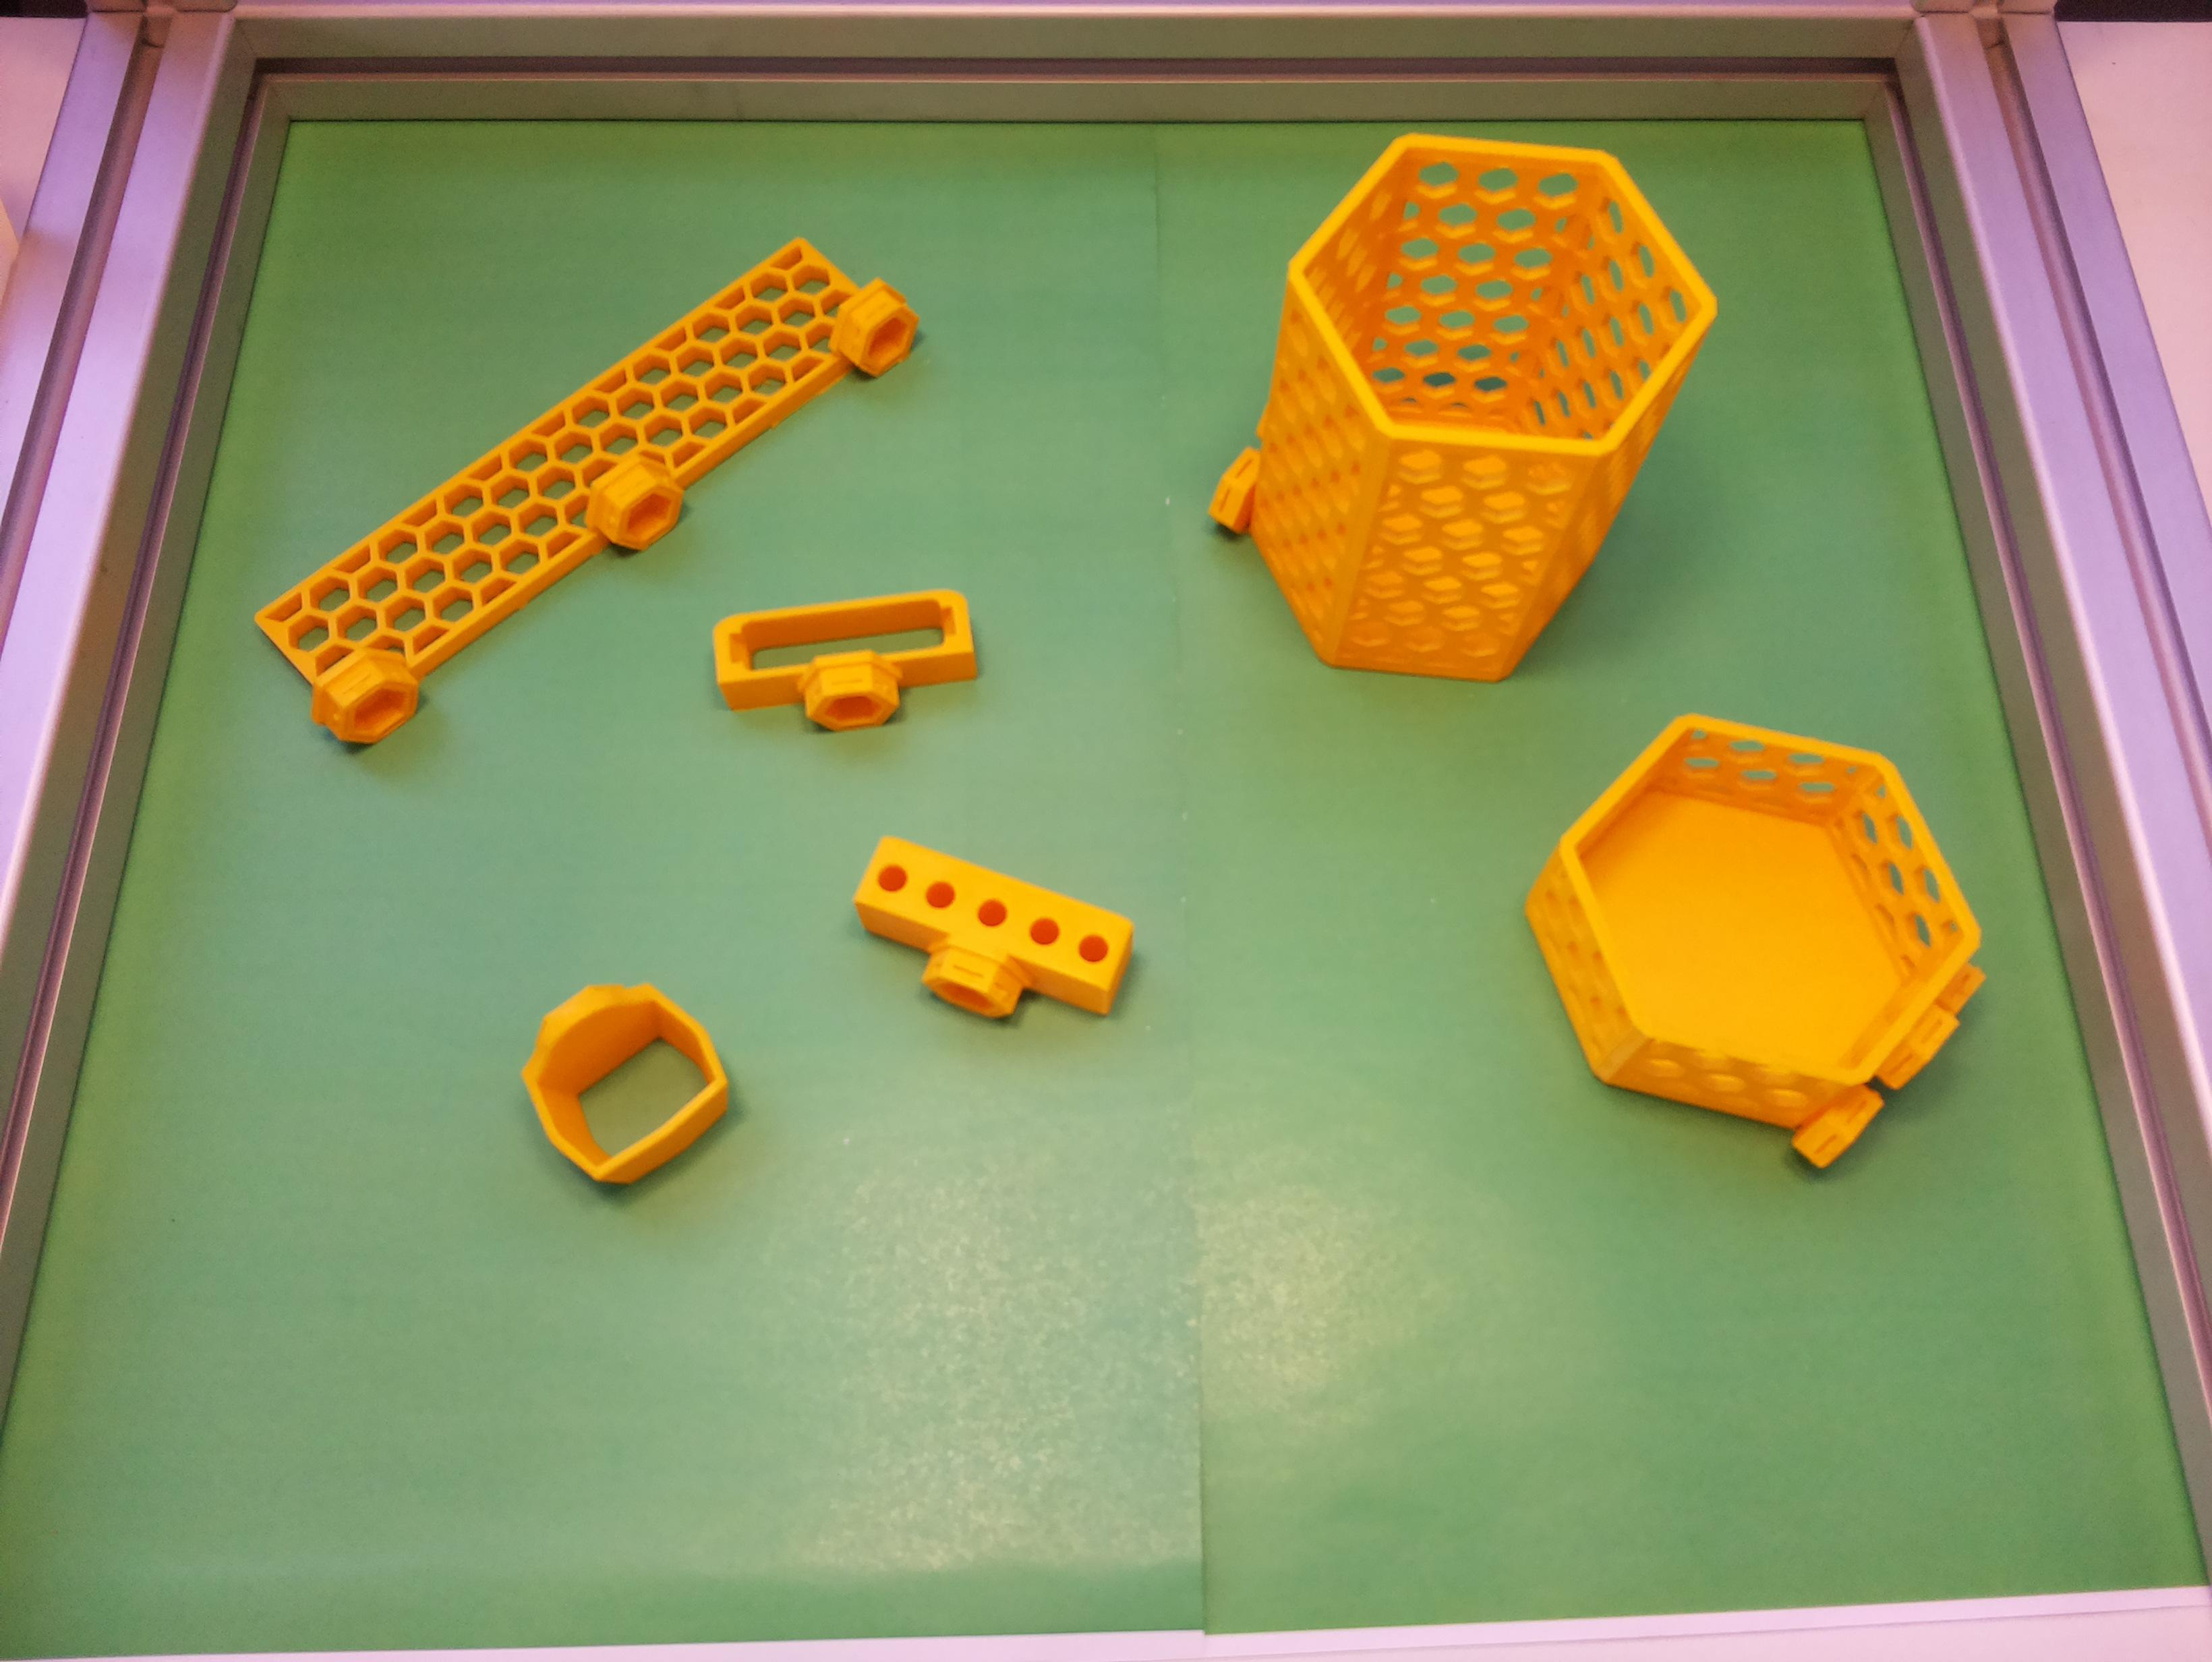bit_holder: (833, 831, 1142, 1054)
bottle_holder: (1460, 634, 2058, 1234)
cup_holder: (1137, 49, 1758, 749)
cutter_holder: (712, 588, 981, 738)
scissor_holder: (492, 946, 752, 1206)
tool_holder: (244, 199, 936, 763)
